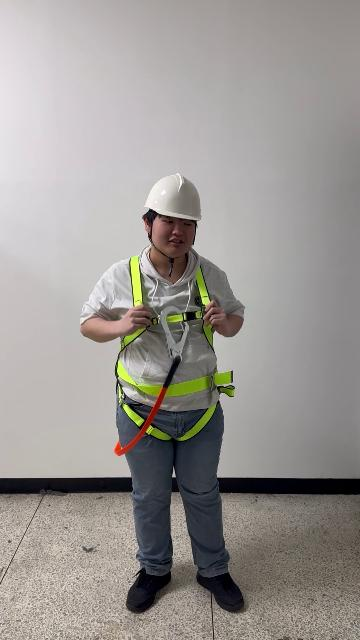helmet_worn: (148, 175, 207, 223)
shoe_not_worn: (126, 568, 171, 613), (196, 570, 244, 612)
vest_worn: (112, 255, 234, 441)
